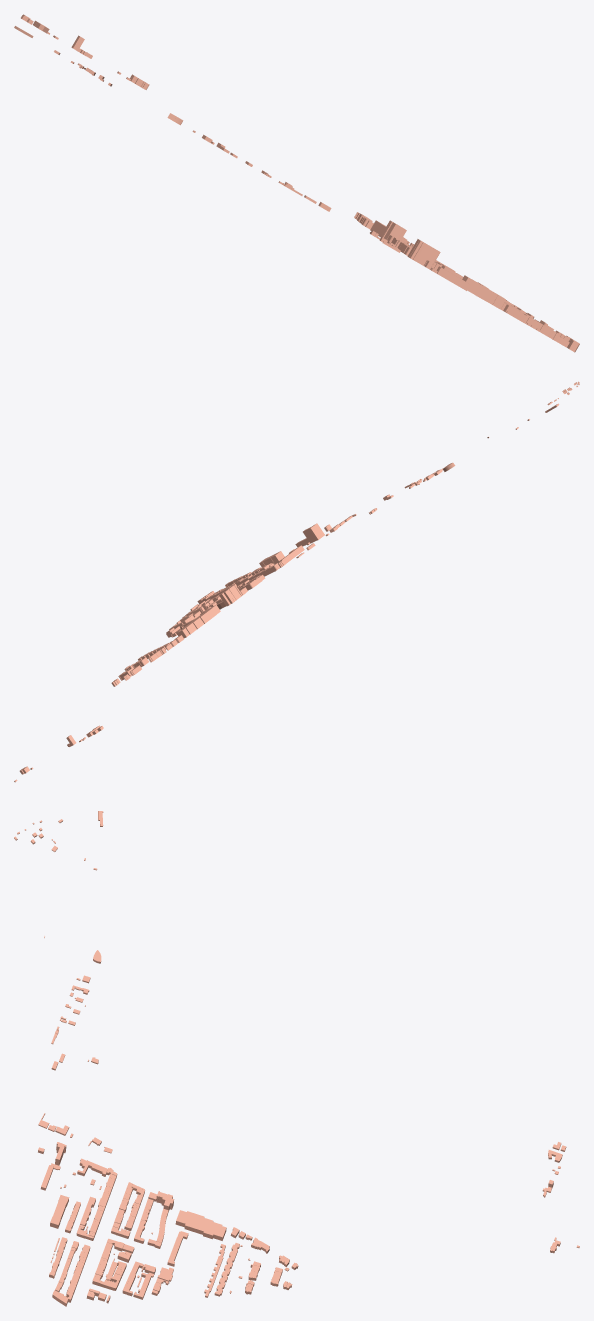
3 views of the same model, one above another, from view 1: azimuth 30°, elevation 25°; view 2: azimuth 150°, elevation 25°; view 3: azimuth 270°, elevation 25° (orthographic). The views are drawn at different scales.
Size of the model in its own units: 968 by 749 by 1236.
